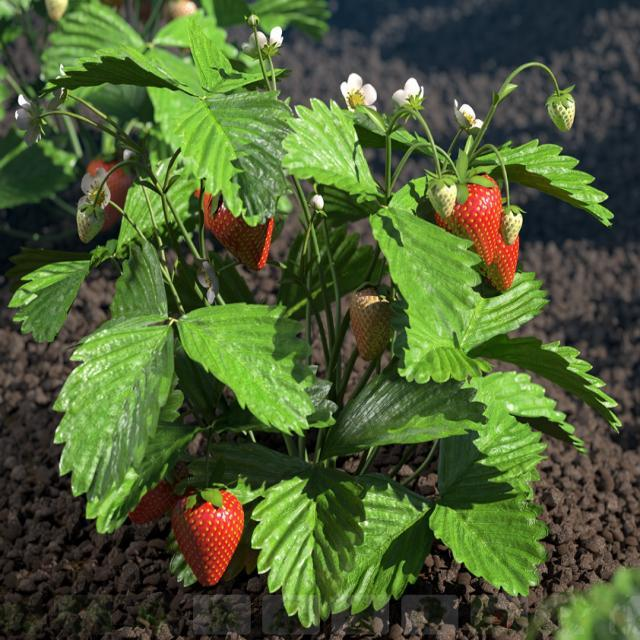ripe: (198, 162, 285, 272), (164, 488, 248, 591), (441, 160, 508, 270), (82, 150, 134, 222), (482, 220, 524, 293)
unripe: (348, 287, 393, 357), (72, 188, 106, 244), (544, 87, 578, 135), (426, 168, 460, 216), (498, 200, 522, 246)
